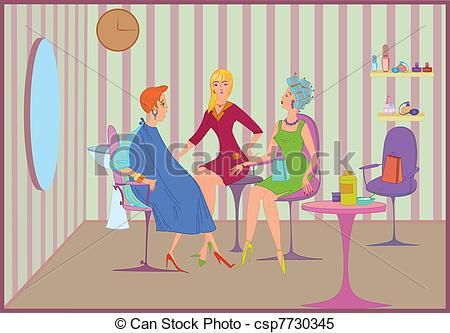chair: (106, 124, 178, 277), (261, 116, 325, 263), (353, 126, 421, 253)
person: (120, 82, 235, 275), (244, 74, 320, 278), (183, 66, 252, 193)
